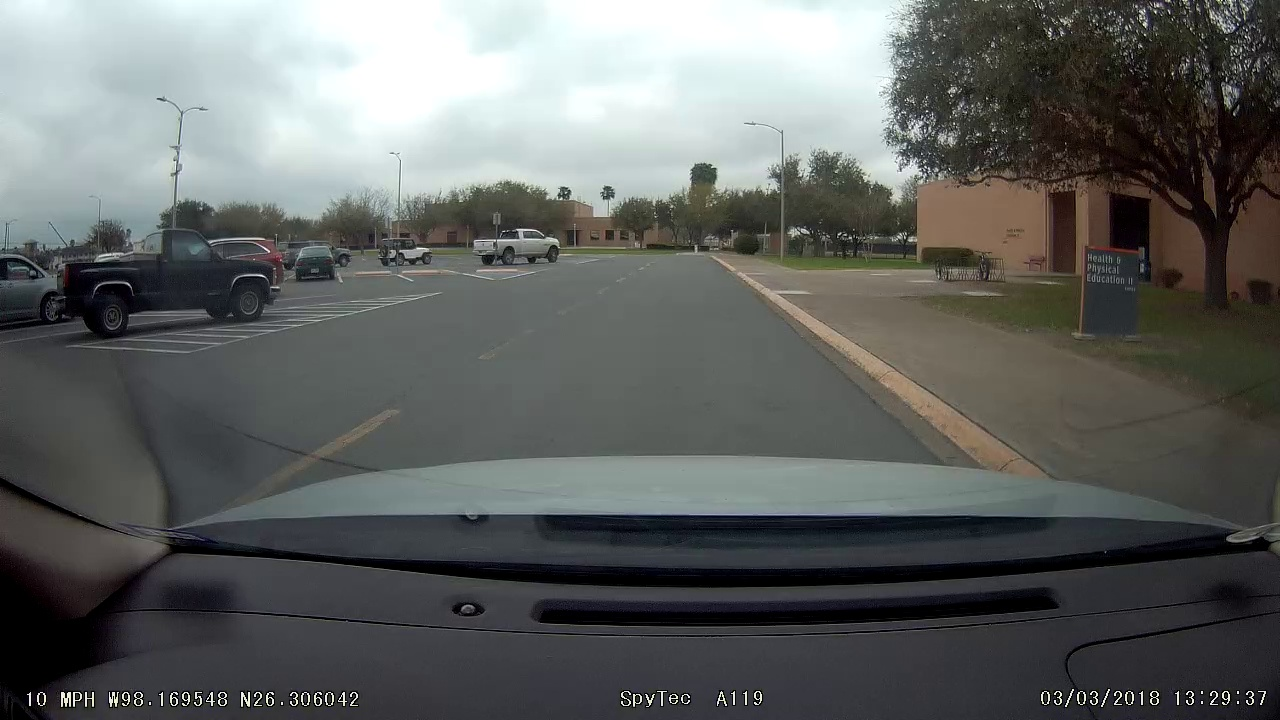blurredLine: (467, 321, 546, 375)
